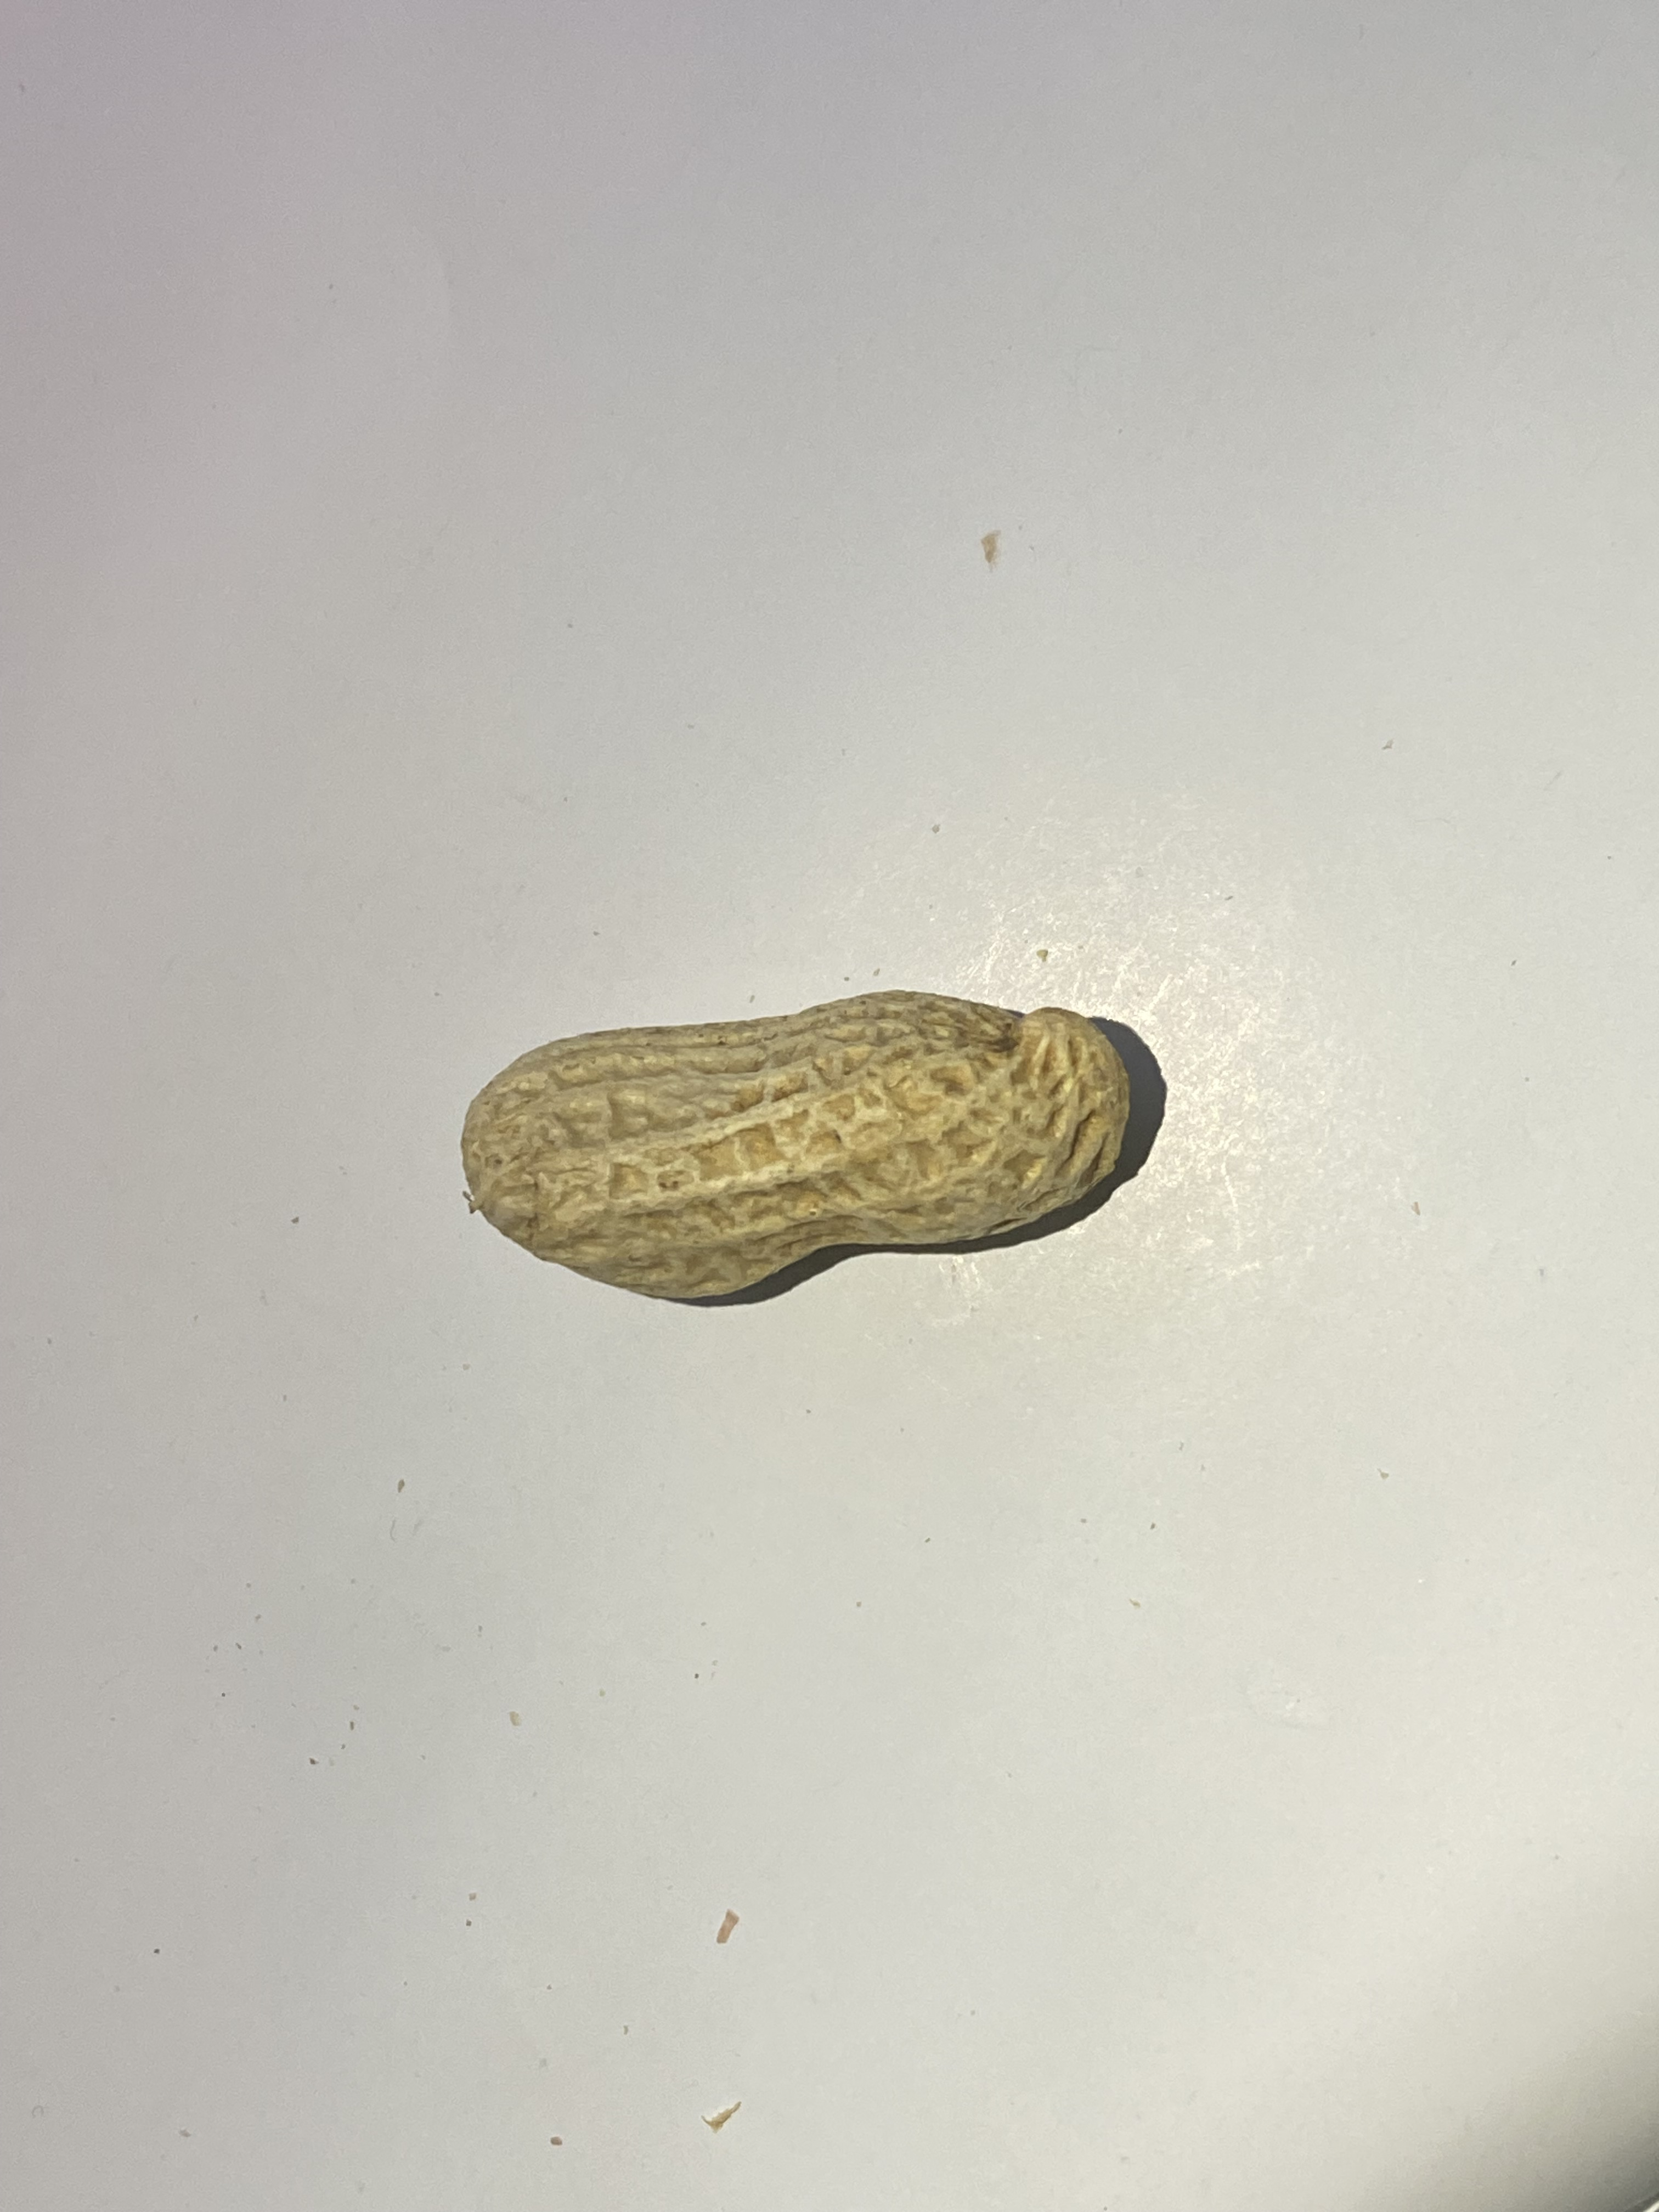kacang2: (443, 925, 1204, 1308)
